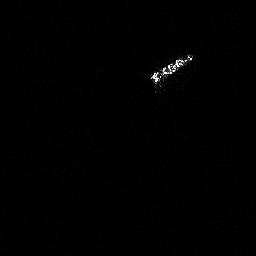ship: (146, 50, 195, 87)
